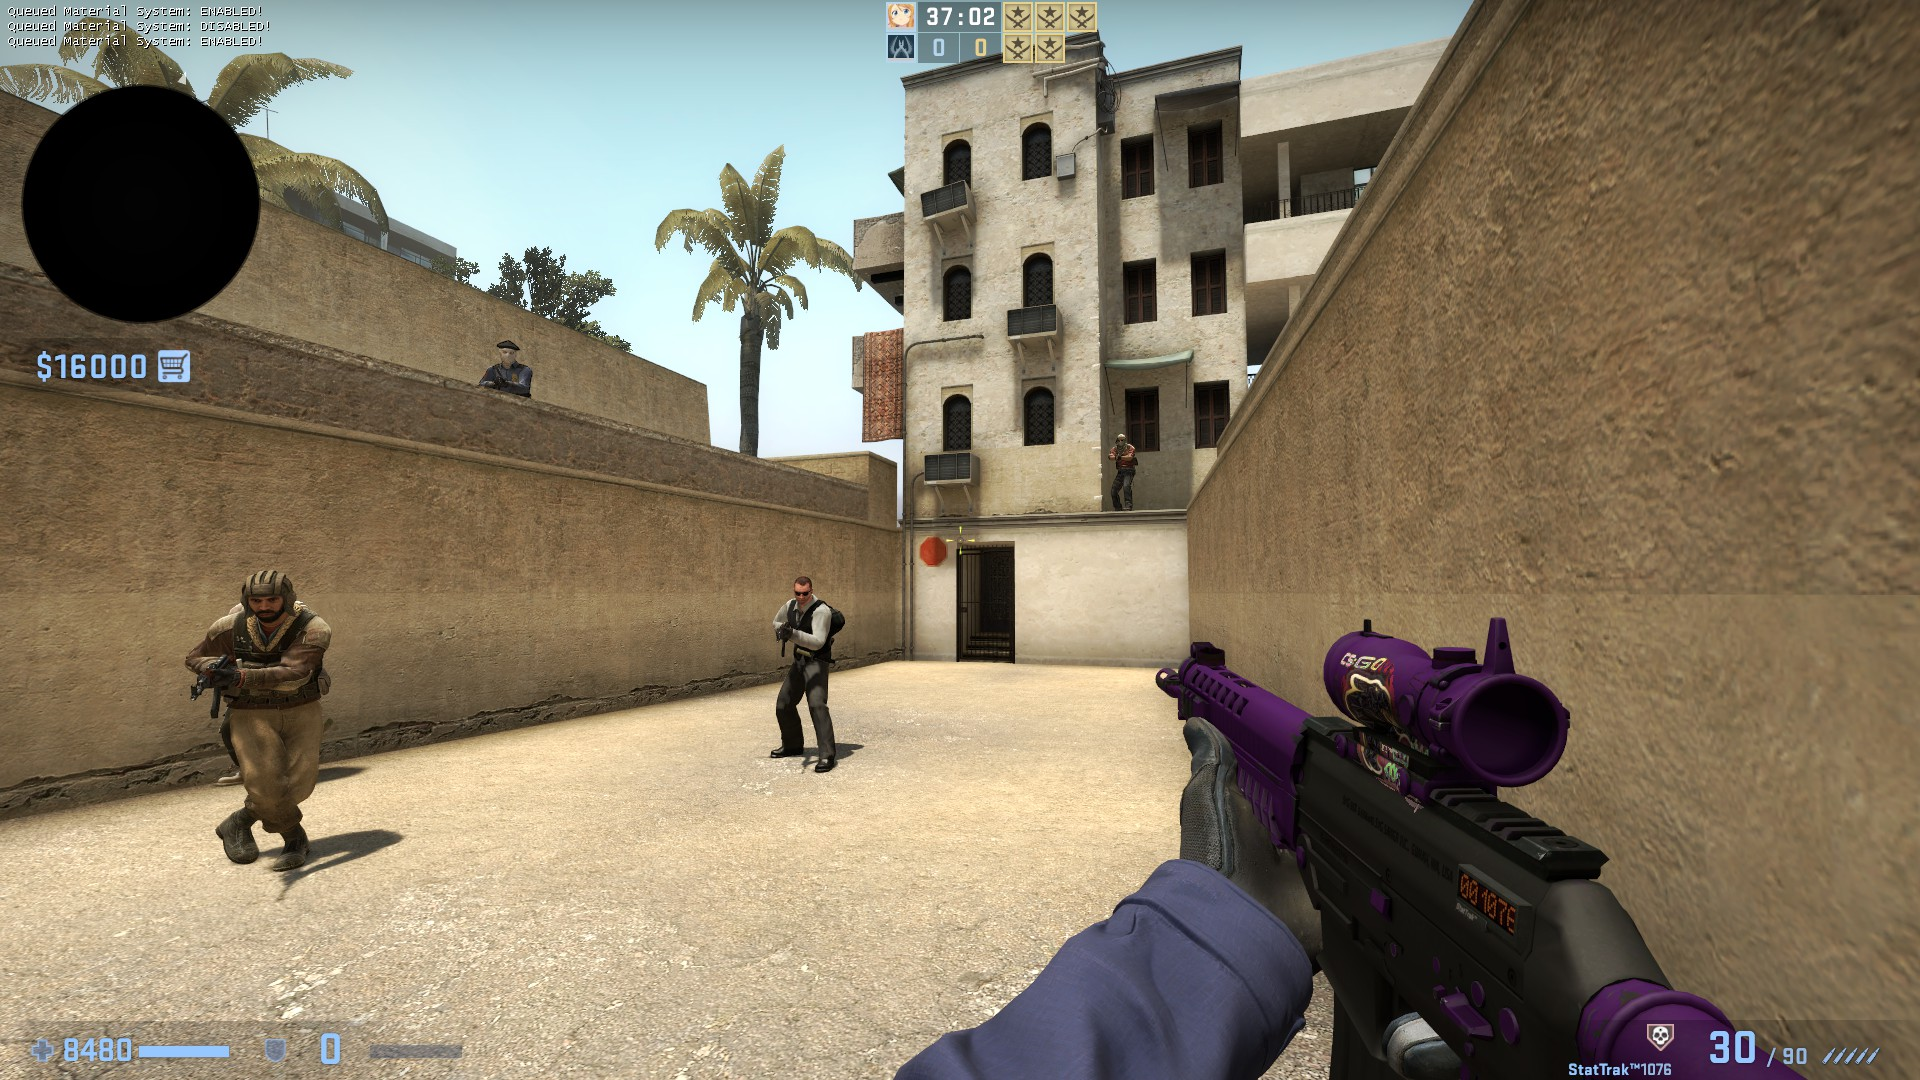head: (238, 563, 303, 625), (493, 336, 520, 367), (791, 574, 814, 602), (1114, 432, 1126, 447)
